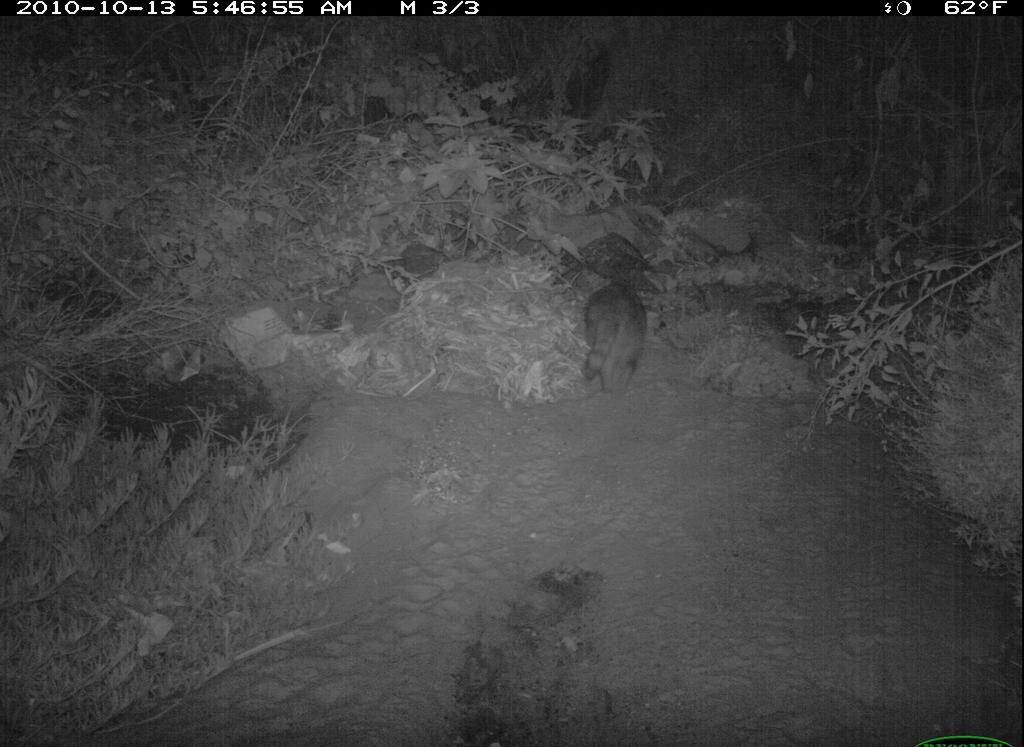raccoon: (575, 277, 656, 402)
